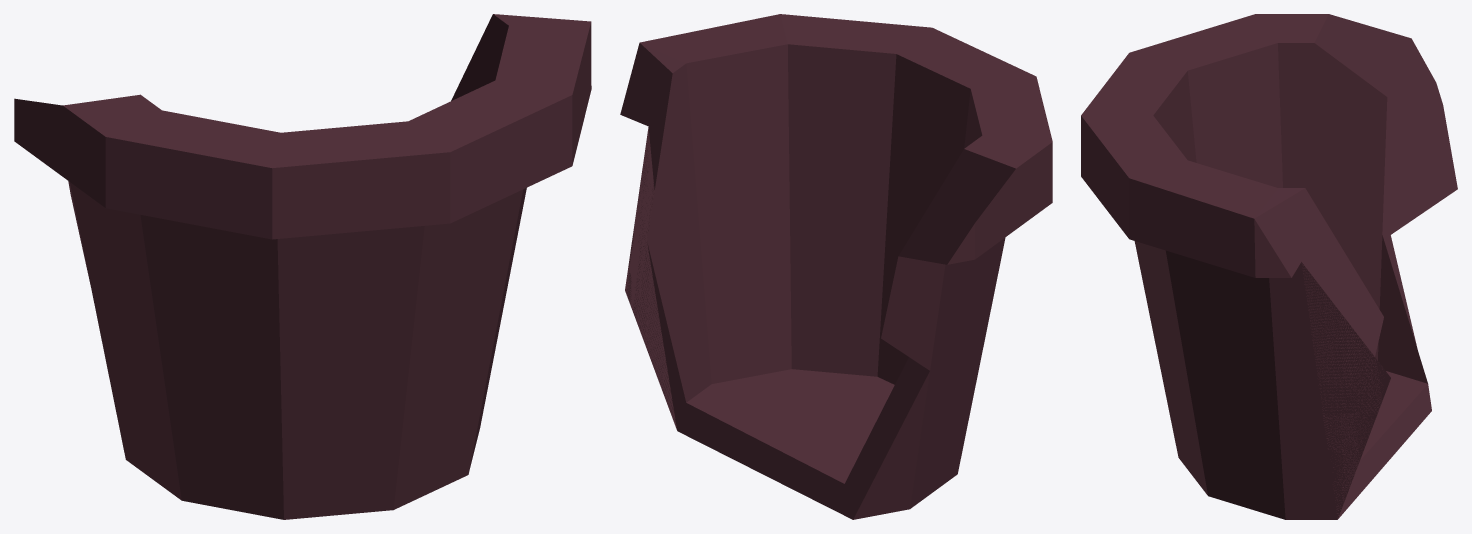
File: Broken_pot_1b.fbx
3 renders of one model, left to right at view 1: azimuth 30°, elevation 25°; view 2: azimuth 150°, elevation 25°; view 3: azimuth 270°, elevation 25°, orthographic. The views are drawn at different scales.
Parts seen in each view (by area): view 1: Cylinder.001; view 2: Cylinder.001; view 3: Cylinder.001.
Boxes of the visible parts, x1,y1,x2,y2 form: Cylinder.001: [14, 14, 591, 519]; Cylinder.001: [620, 14, 1052, 519]; Cylinder.001: [1081, 14, 1457, 519].
Size of the model in its own units: 113 by 88.96 by 88.82.
